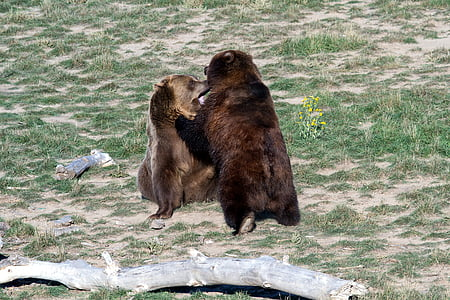bear: (201, 50, 302, 229), (138, 74, 221, 219)
